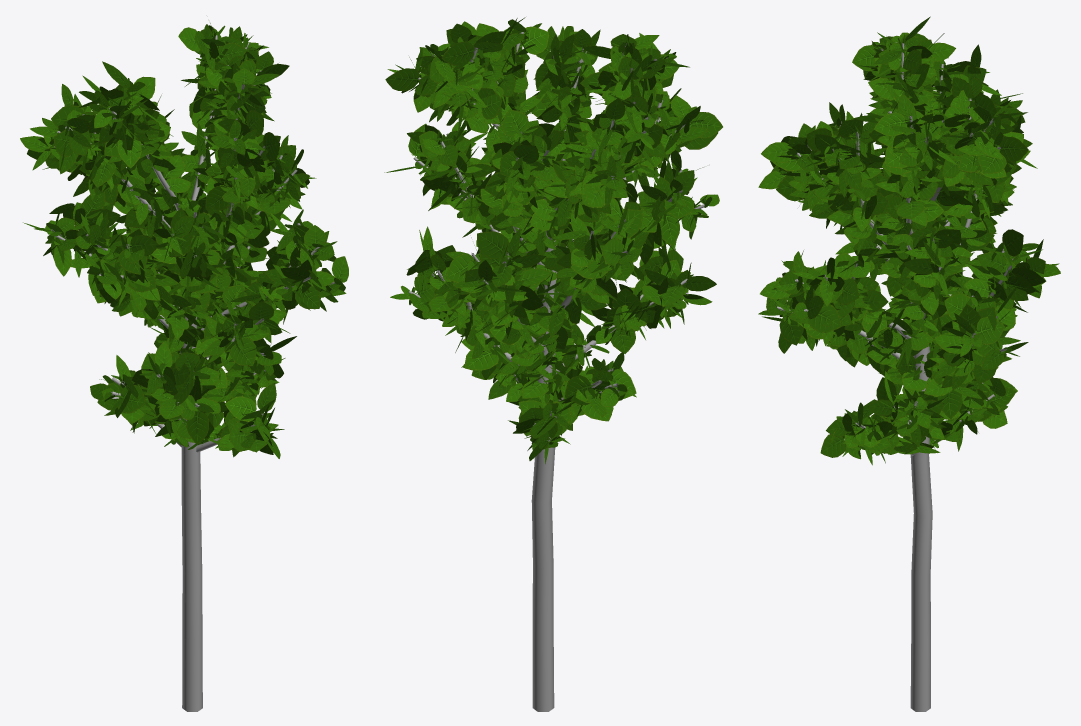
Rendered from Tree2-Leafs.fbx.
3 views of the same model, side by side, from view 1: azimuth 30°, elevation 25°; view 2: azimuth 150°, elevation 25°; view 3: azimuth 270°, elevation 25° (orthographic). The views are drawn at different scales.
Parts seen in each view (by area): view 1: Tree2_Leafs; view 2: Tree2_Leafs; view 3: Tree2_Leafs.
Boxes of the visible parts, left/top/right/bottom form: Tree2_Leafs: left=20, top=23, right=348, bottom=711; Tree2_Leafs: left=384, top=17, right=722, bottom=711; Tree2_Leafs: left=758, top=16, right=1060, bottom=711.
Bounding box in the file's own units: 319 × 738 × 319.
